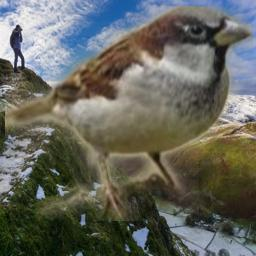Sparrow: (5, 6, 253, 221)
